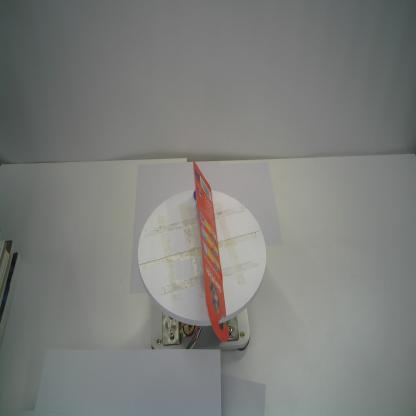Personal Hygiene: (192, 160, 230, 343)
